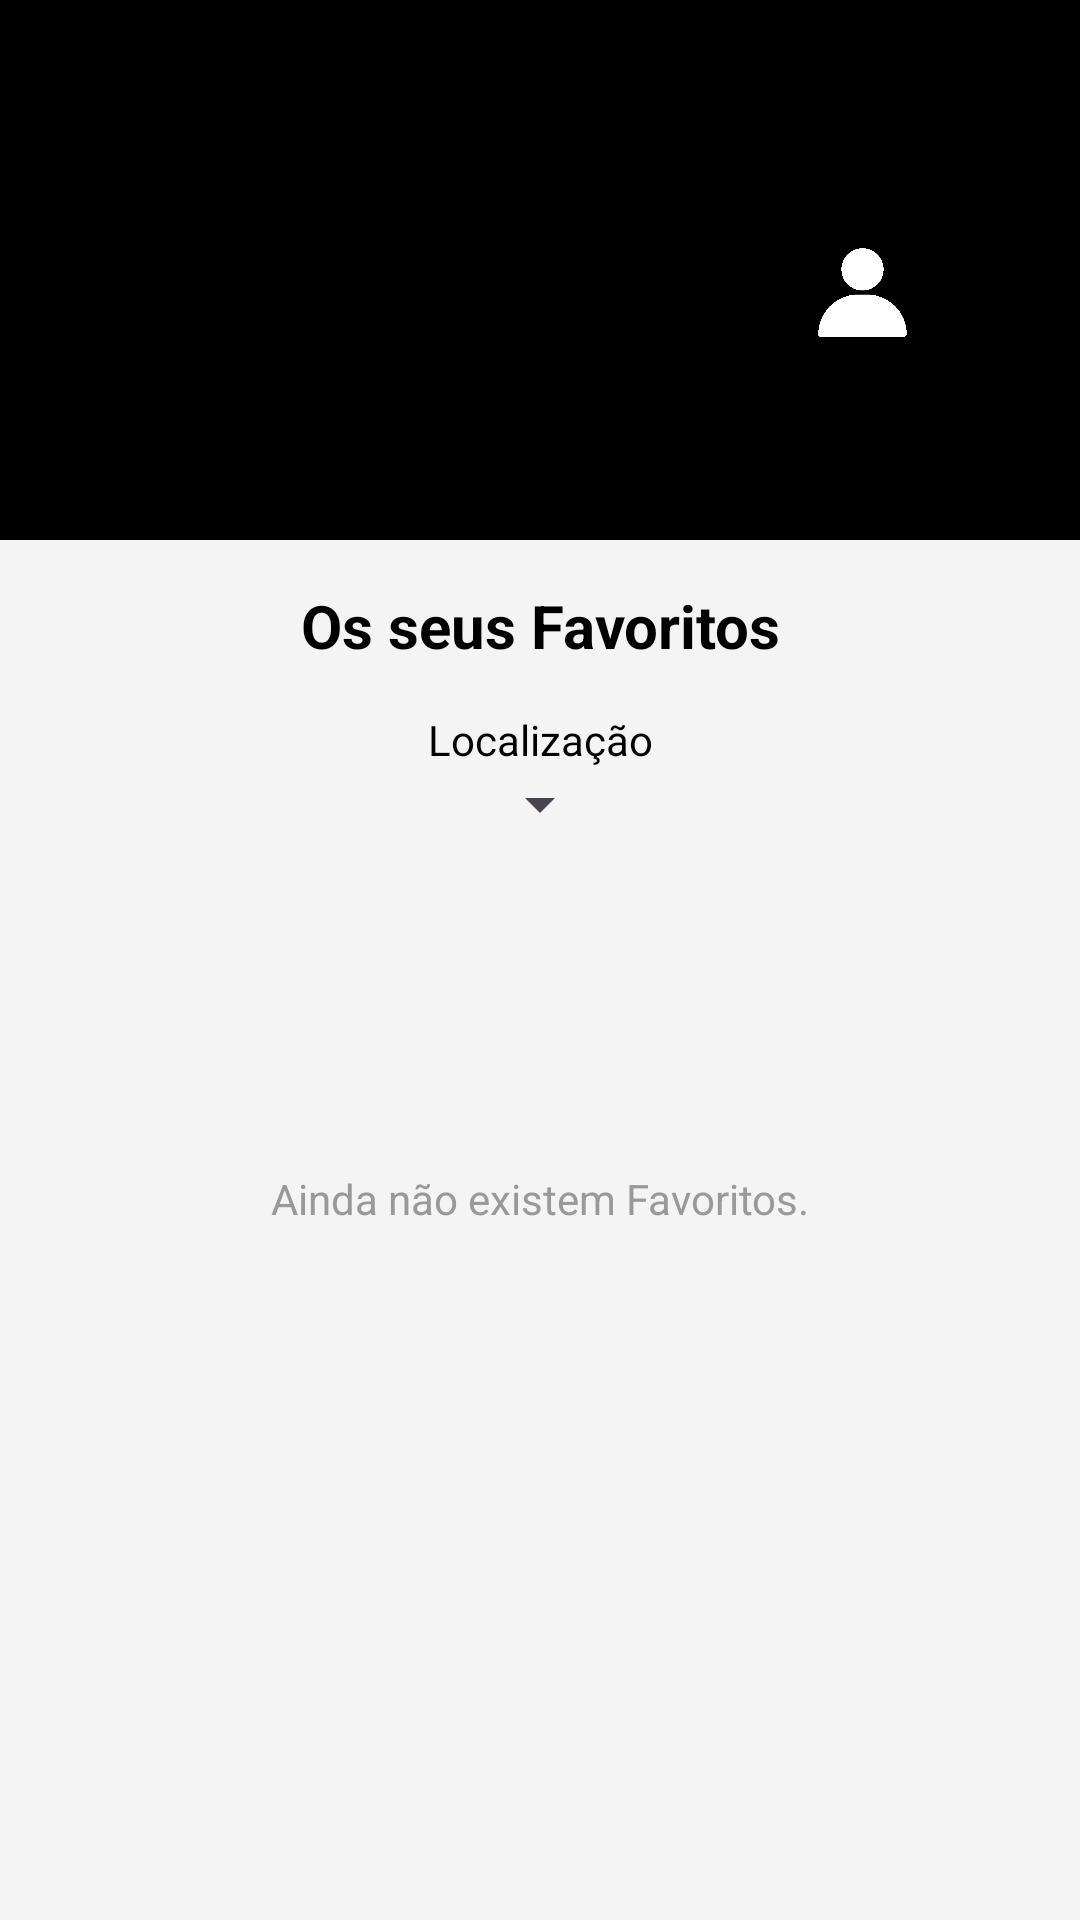

Icons on this 1080x1920 Android screen, each with its box as (left=x1, top=y1, right=x2, bottom=y2):
perfil: (left=818, top=248, right=907, bottom=337)
